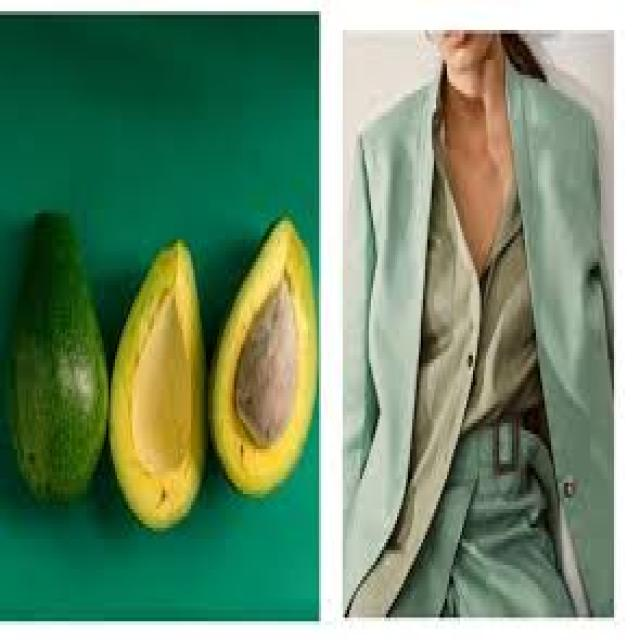avocado: (213, 201, 340, 541), (0, 202, 109, 522), (116, 208, 204, 563)
